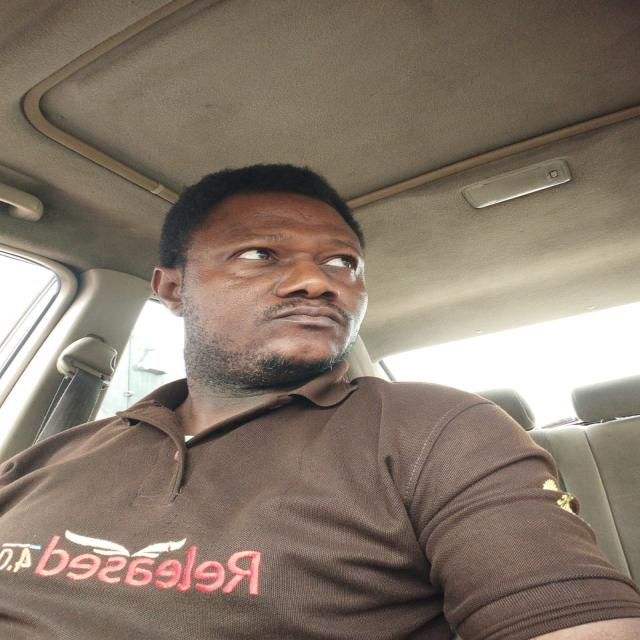sad: (142, 162, 387, 392)
